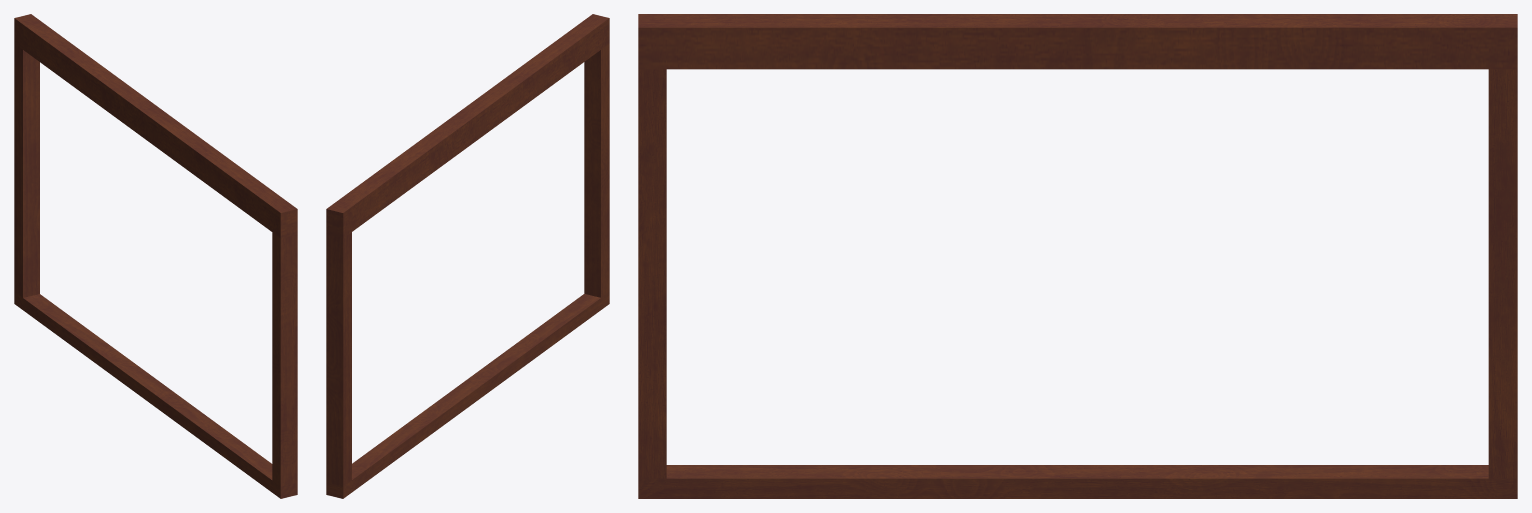
File: SM_WallPaper01L.fbx
3 renders of one model, left to right at view 1: azimuth 30°, elevation 25°; view 2: azimuth 150°, elevation 25°; view 3: azimuth 270°, elevation 25°, orthographic. The views are drawn at different scales.
Visible parts, largest first — view 1: SM_WallPaper01L; view 2: SM_WallPaper01L; view 3: SM_WallPaper01L.
Part boxes in pixels (<box>): SM_WallPaper01L: <box>14,14,297,498</box>; SM_WallPaper01L: <box>326,14,609,498</box>; SM_WallPaper01L: <box>638,14,1517,498</box>.
Bounding box in the file's own units: 8.99 × 247 × 146.
1 material, 1 textured.
